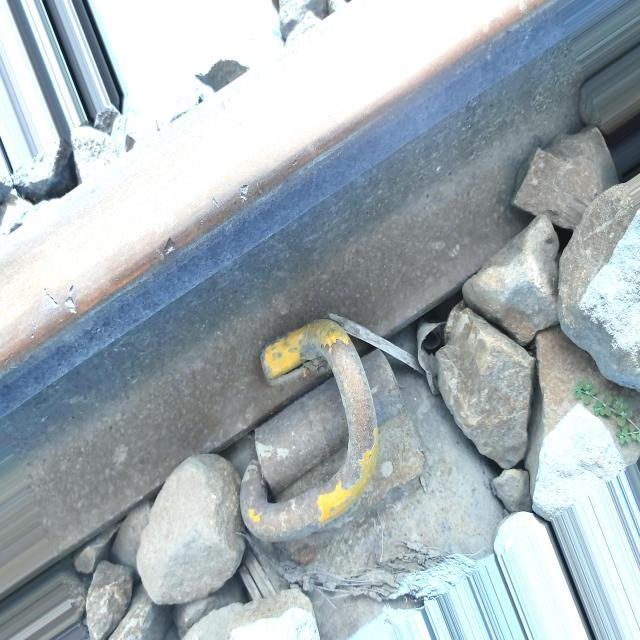Good Fasteners: (170, 239, 470, 612)
